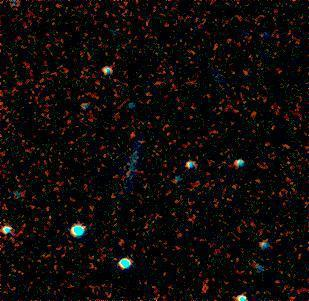star: (119, 122, 149, 152)
